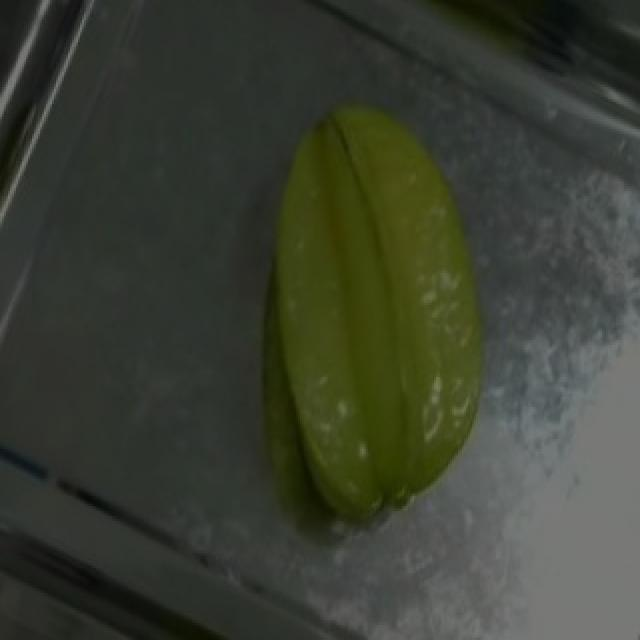fruit: (244, 75, 568, 491)
